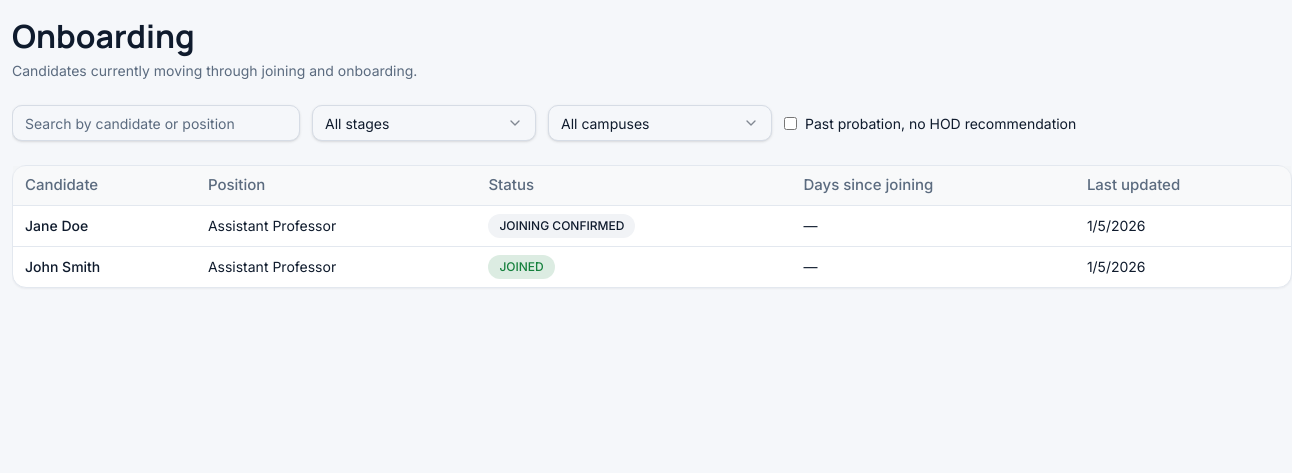
Scenario: OnboardingListPage › narrows the list client-side by stage without re-fetching
expect the link "Jane Doe" is shown: met, box [25,217,88,234]
expect the link "John Smith" is shown: met, box [25,258,100,275]
Click the dropdown named "Stage filter": click(424, 123) [312,105,536,141]
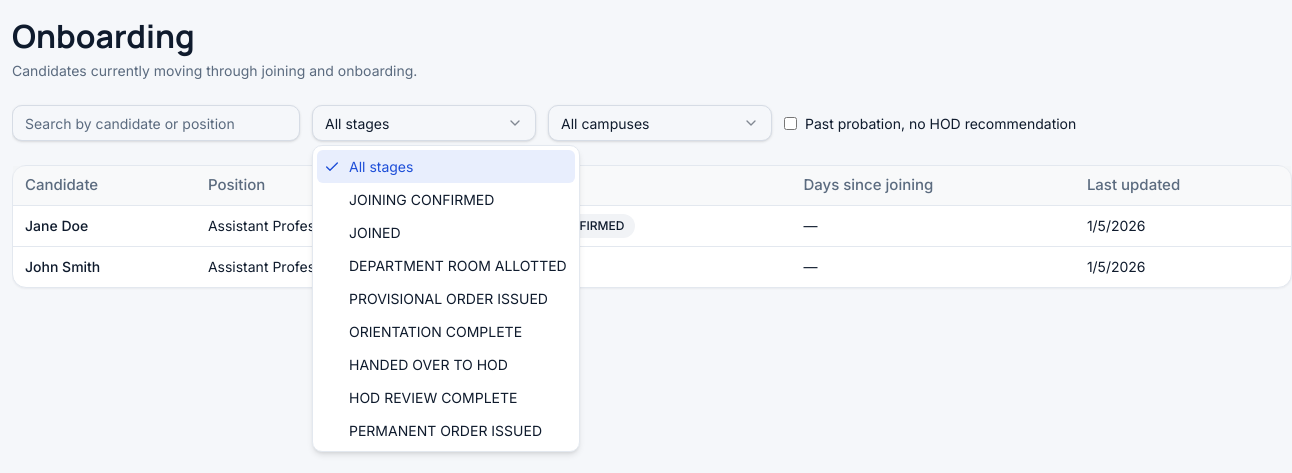
Click the option "JOINED": click(375, 232) [349,224,400,241]
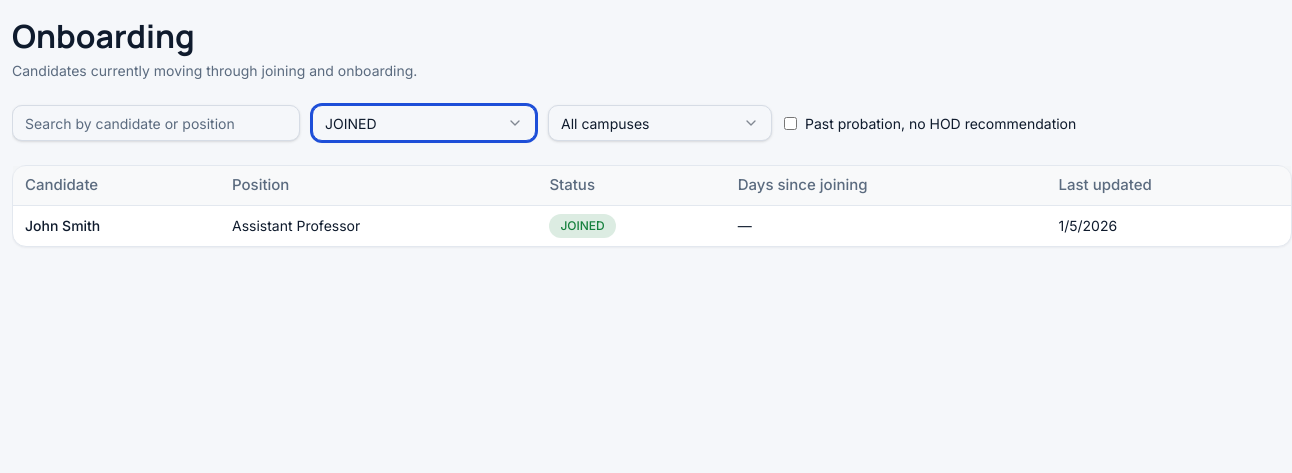
expect the link "John Smith" is shown: met, box [25,217,100,234]
expect the link "Jane Doe" is gone: met
